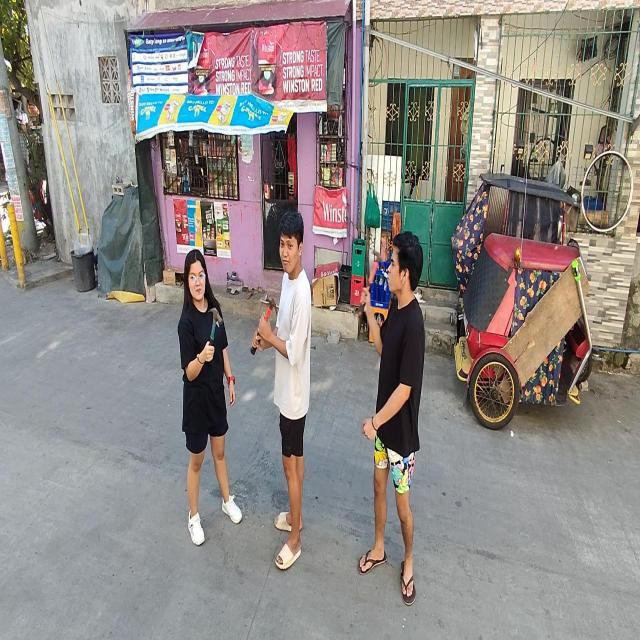hammer: (250, 295, 278, 355), (208, 308, 223, 347)
